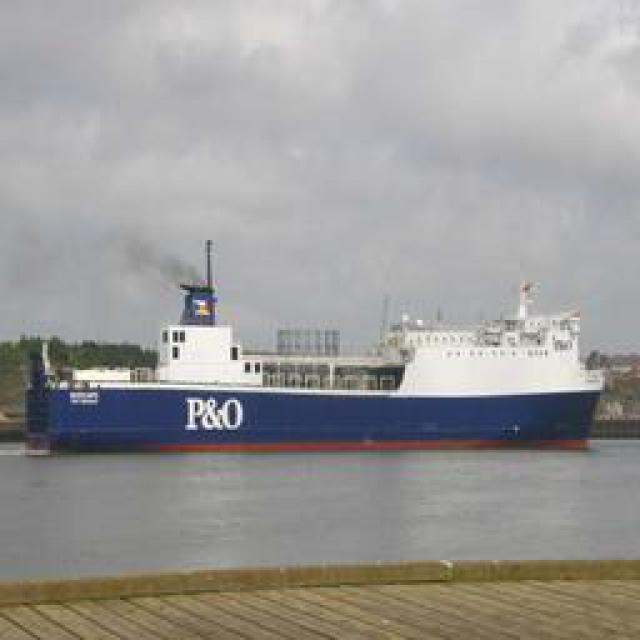Ship: (25, 248, 600, 443)
